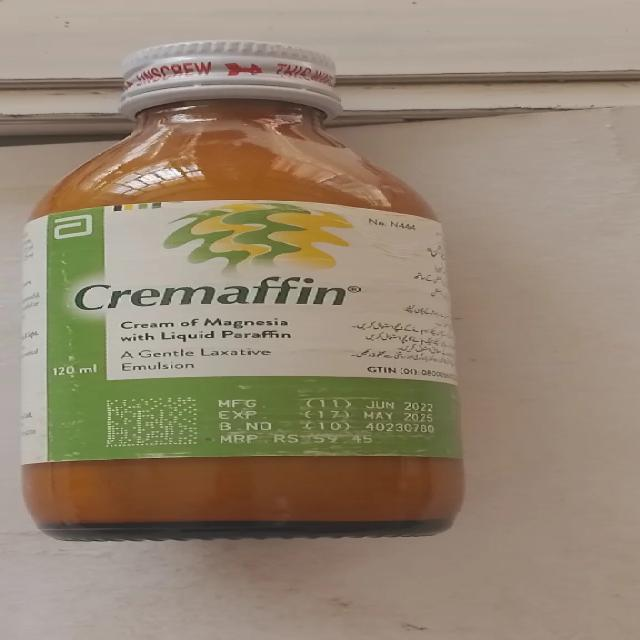drug-name: (70, 273, 356, 315)
